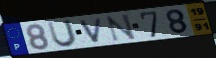7: (139, 11, 159, 39)
8: (25, 23, 51, 51), (166, 8, 190, 34)
N: (105, 13, 138, 43)
U: (45, 18, 79, 49)
V: (78, 16, 104, 44)
